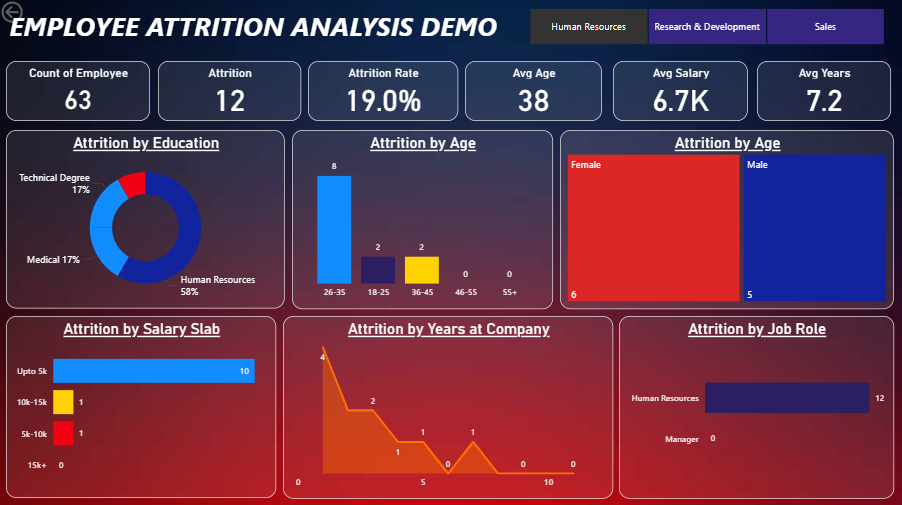

This screenshot's page, from the dashboard's own definition file:
{"tool":"powerbi","page":{"name":"Page 1","canvas":[1280,720],"ordinal":0},"visuals":[{"type":"card","title":"Count of Employee","fields":{"Values":["Sum(HR_Analytics.EmployeeCount)"]},"box":[10.6,89.3,209,90.9],"z":0},{"type":"card","title":"Attrition","fields":{"Values":["Sum(HR_Analytics.AttritionCount)"]},"box":[227.1,89.3,204.4,90.9],"z":1000},{"type":"card","title":"Attrition Rate","fields":{"Values":["HR_Analytics.AttritionRate"]},"box":[439.1,89.3,216.5,90.9],"z":2000},{"type":"card","title":"Avg Age","fields":{"Values":["Avg(HR_Analytics.Age)"]},"box":[661.7,89.3,202.9,90.9],"z":3000},{"type":"card","title":"Avg Years","fields":{"Values":["Avg(HR_Analytics.YearsAtCompany)"]},"box":[1075.7,89.3,193,91],"z":4000},{"type":"card","title":"Avg Salary","fields":{"Values":["Avg(HR_Analytics.MonthlyIncome)"]},"box":[872.2,89.3,193.8,90.9],"z":5000},{"type":"donutChart","title":" Attrition by Education","fields":{"Category":["HR_Analytics.EducationField"],"Y":["Sum(HR_Analytics.AttritionCount)"]},"box":[11.3,187.1,397,256],"z":6000},{"type":"columnChart","title":" Attrition by Age","fields":{"Category":["HR_Analytics.AgeGroup"],"Y":["Sum(HR_Analytics.AttritionCount)"]},"box":[416.4,187.8,373,255.9],"z":7000},{"type":"actionButton","box":[0,0,100,40],"z":8000},{"type":"clusteredBarChart","title":" Attrition by Salary Slab","fields":{"Category":["HR_Analytics.SalarySlab"],"Y":["Sum(HR_Analytics.AttritionCount)"]},"box":[11.3,450.7,386,258],"z":9000},{"type":"clusteredBarChart","title":" Attrition by Job Role","fields":{"Y":["Sum(HR_Analytics.AttritionCount)"],"Category":["HR_Analytics.JobRole"]},"box":[880.2,450.7,389.8,259.4],"z":10000},{"type":"areaChart","title":" Attrition by Years at Company","fields":{"Category":["HR_Analytics.YearsAtCompany"],"Y":["Sum(HR_Analytics.AttritionCount)"]},"box":[403.9,450.7,468,259.4],"z":11000},{"type":"lineChart","title":" Attrition by Age","fields":{"Category":["HR_Analytics.Age"],"Y":["CountNonNull(HR_Analytics.AttritionCount)"],"Series":["HR_Analytics.Gender"]},"box":[796.5,187.8,473.9,255.9],"z":12000},{"type":"slicer","title":"Filter by Departments","fields":{"Values":["HR_Analytics.Department"]},"box":[576.9,9.1,704,76],"z":13000},{"type":"textbox","box":[10.6,9.1,590.5,63.6],"z":14000}]}

Visuals, with their boxes in screenshot pixels (x1, y1, x2, y2), scaled from the page's 1280x720 canvas onto the 902x505 screenshot:
"Count of Employee" card: [x1=7, y1=63, x2=155, y2=126]
"Attrition" card: [x1=160, y1=63, x2=304, y2=126]
"Attrition Rate" card: [x1=309, y1=63, x2=462, y2=126]
"Avg Age" card: [x1=466, y1=63, x2=609, y2=126]
"Avg Years" card: [x1=758, y1=63, x2=894, y2=126]
"Avg Salary" card: [x1=615, y1=63, x2=751, y2=126]
" Attrition by Education" donutChart: [x1=8, y1=131, x2=288, y2=311]
" Attrition by Age" columnChart: [x1=293, y1=132, x2=556, y2=311]
actionButton: [x1=0, y1=0, x2=70, y2=28]
" Attrition by Salary Slab" clusteredBarChart: [x1=8, y1=316, x2=280, y2=497]
" Attrition by Job Role" clusteredBarChart: [x1=620, y1=316, x2=895, y2=498]
" Attrition by Years at Company" areaChart: [x1=285, y1=316, x2=614, y2=498]
" Attrition by Age" lineChart: [x1=561, y1=132, x2=895, y2=311]
"Filter by Departments" slicer: [x1=407, y1=6, x2=901, y2=60]
textbox: [x1=7, y1=6, x2=424, y2=51]
